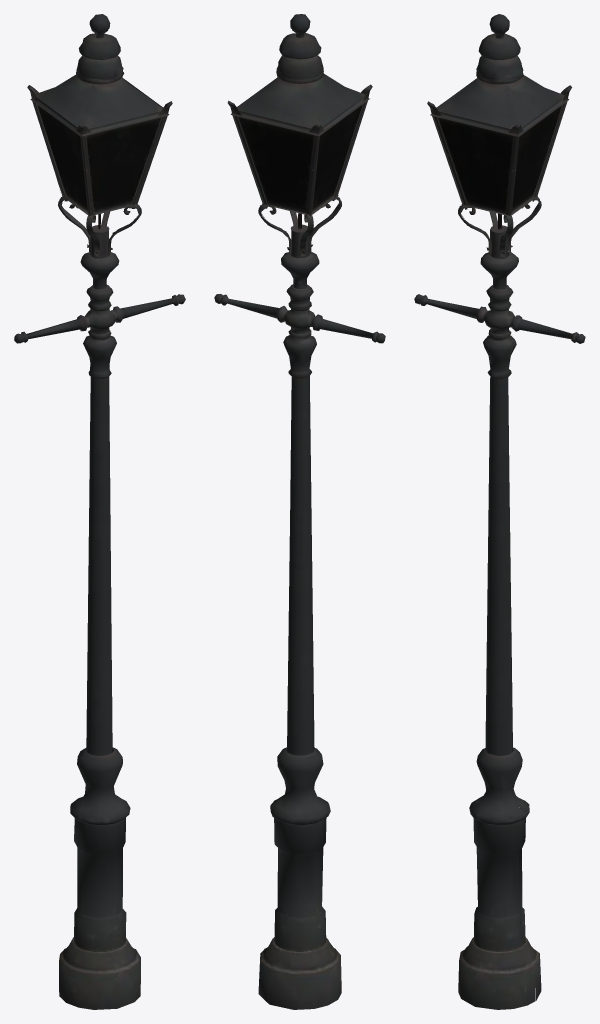
The model's file is ph_street_lamp_01.glb.
The picture shows the model from 3 angles, left to right: view 1: azimuth 30°, elevation 25°; view 2: azimuth 150°, elevation 25°; view 3: azimuth 330°, elevation 25°; orthographic projection.
Parts seen in each view (by area): view 1: street_lamp_01; view 2: street_lamp_01; view 3: street_lamp_01.
Part boxes in pixels (x1=…): street_lamp_01: x1=14, y1=14, x2=185, y2=1009; street_lamp_01: x1=214, y1=14, x2=385, y2=1009; street_lamp_01: x1=414, y1=14, x2=585, y2=1009.
Bounding box in the file's own units: 0.7028 × 3.87 × 0.3843.
Materials: 3 (3 with a texture image).
